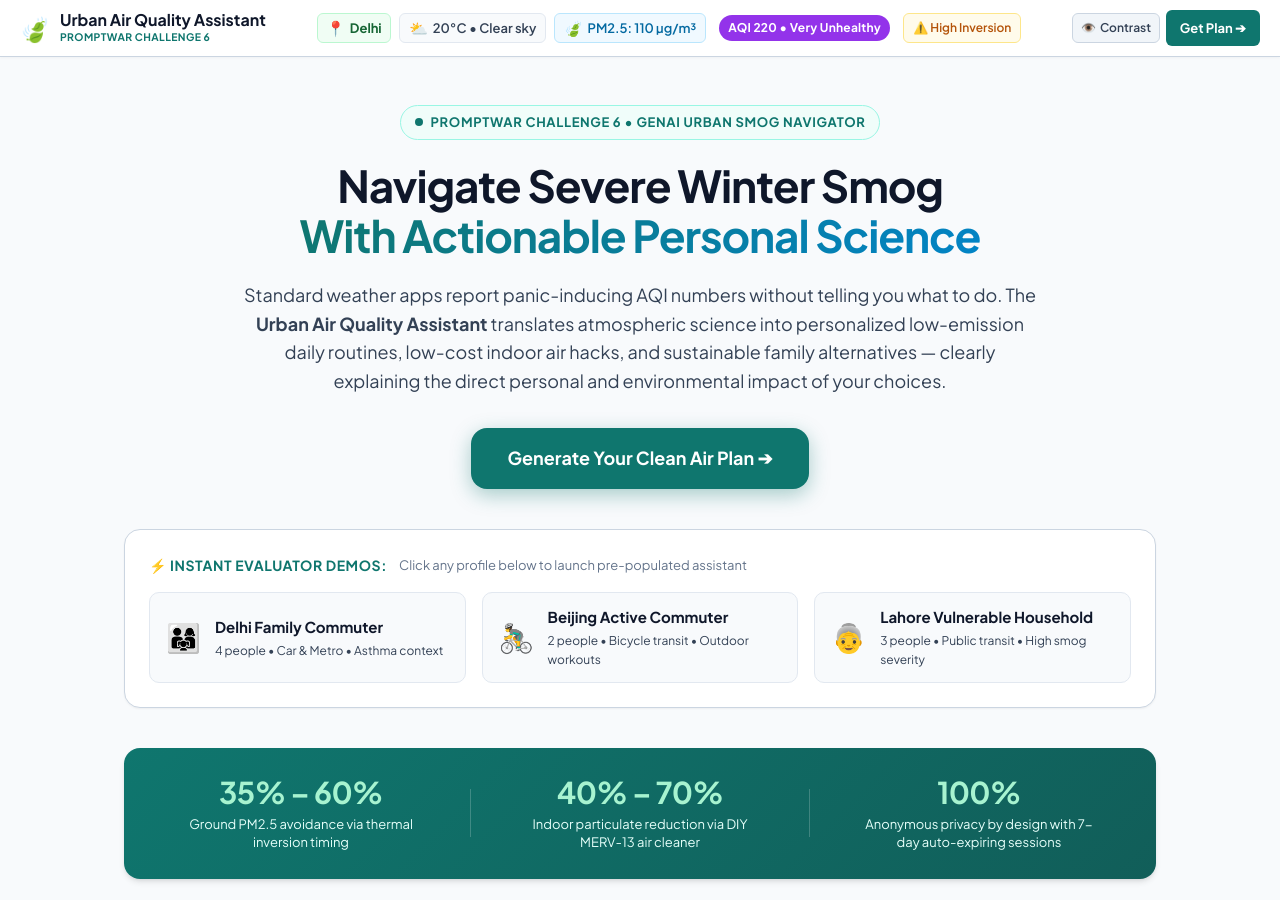
Scenario: App Root Component & Two-View Architecture › navigates from landing page to dedicated assistant page on CTA click
Expected: the heading "Tell Us About Your Household & Commute" is not shown
Click CTA to open dedicated assistant view
Click the button "Generate Your Clean Air Plan ➔".
click(640, 458)  # box left=472, top=428, right=808, bottom=489
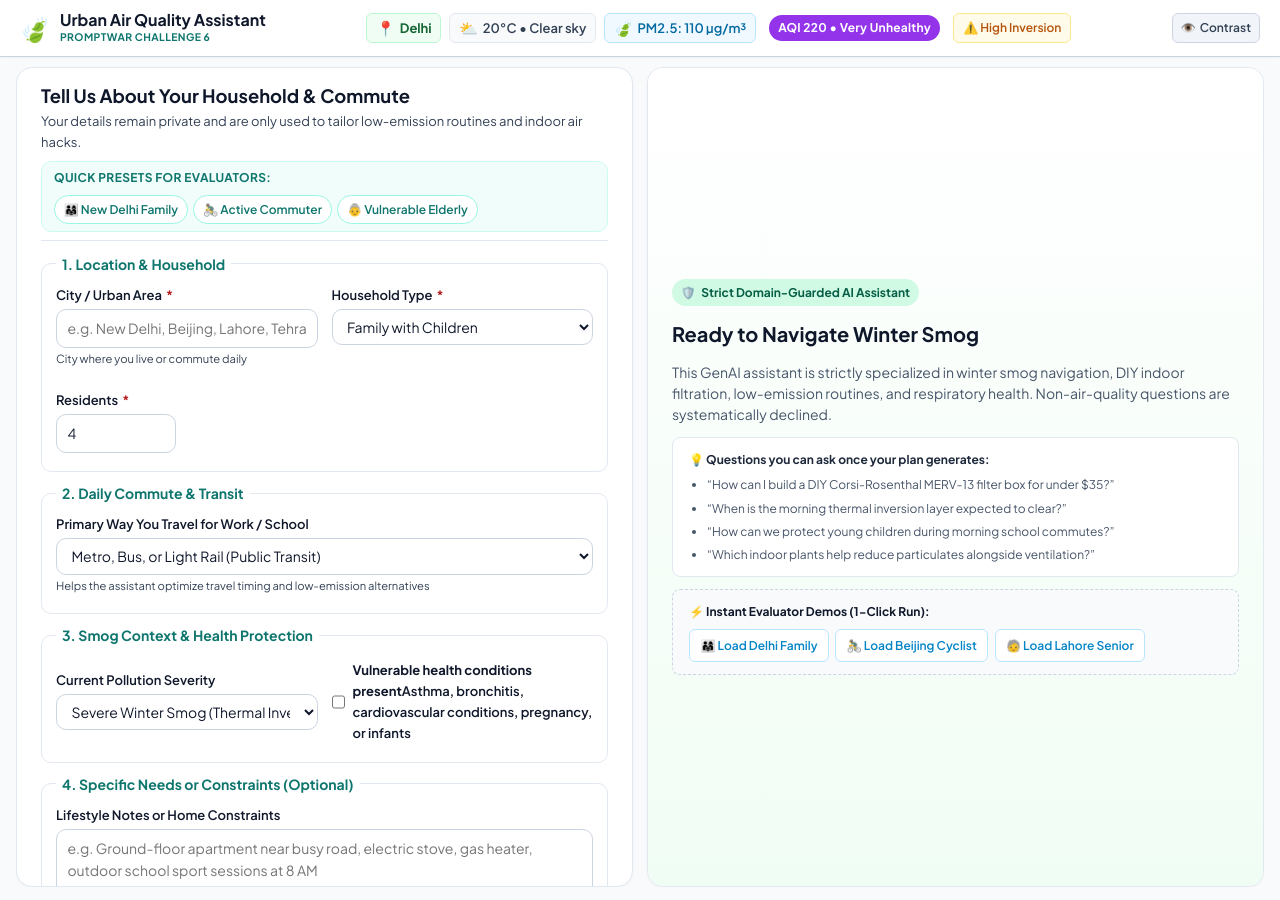
Result: the element named "Urban Air Quality Interactive Workspace" is shown
Result: the heading "Tell Us About Your Household & Commute" is shown at left=41, top=84, right=410, bottom=107
Click brand logo to return to landing
Click the button with aria-label "Urban Air Quality Assistant Home".
click(143, 28)  # box left=20, top=10, right=266, bottom=46
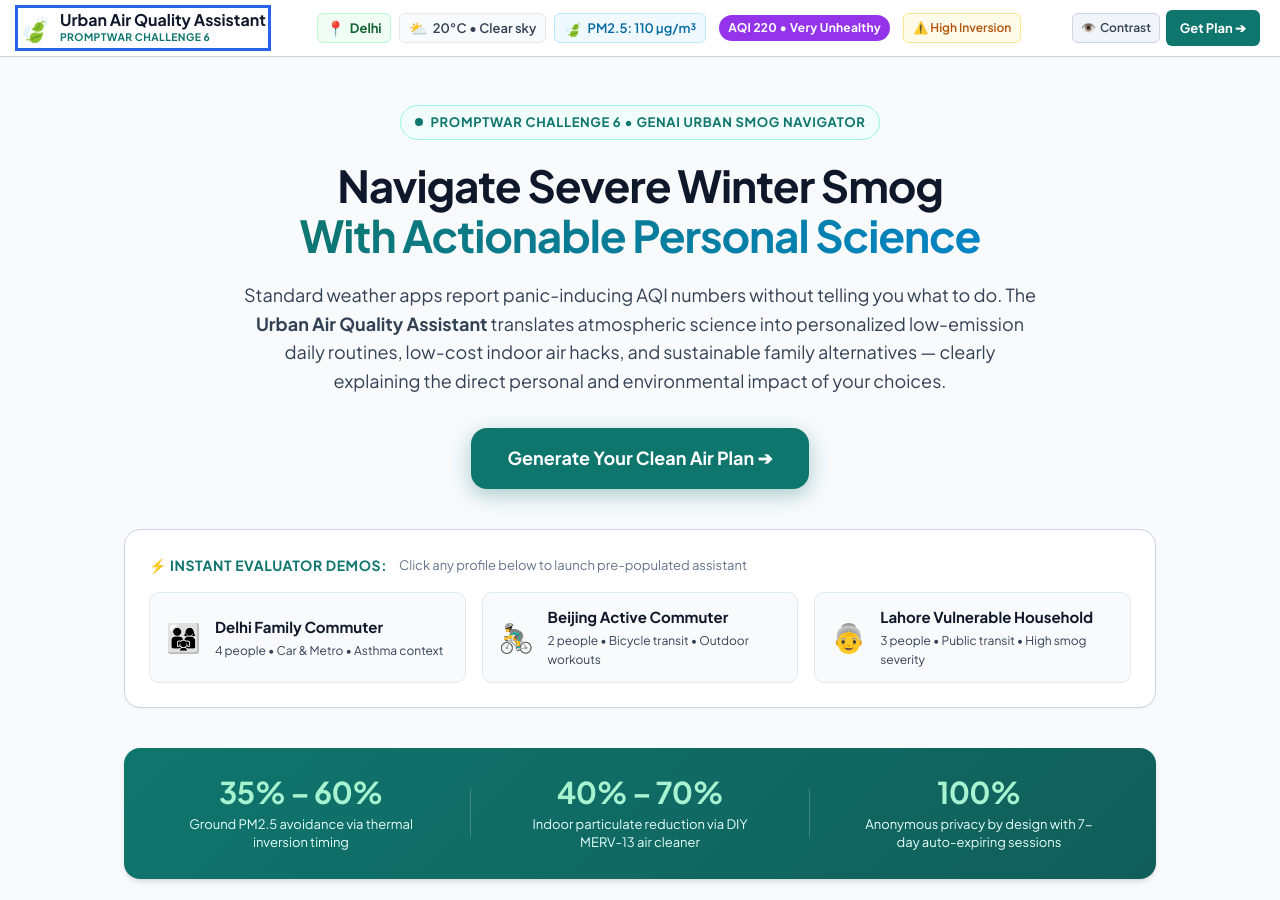
Result: the heading "Navigate Severe Winter Smog With Actionable Personal Science" is shown at left=300, top=157, right=980, bottom=263
